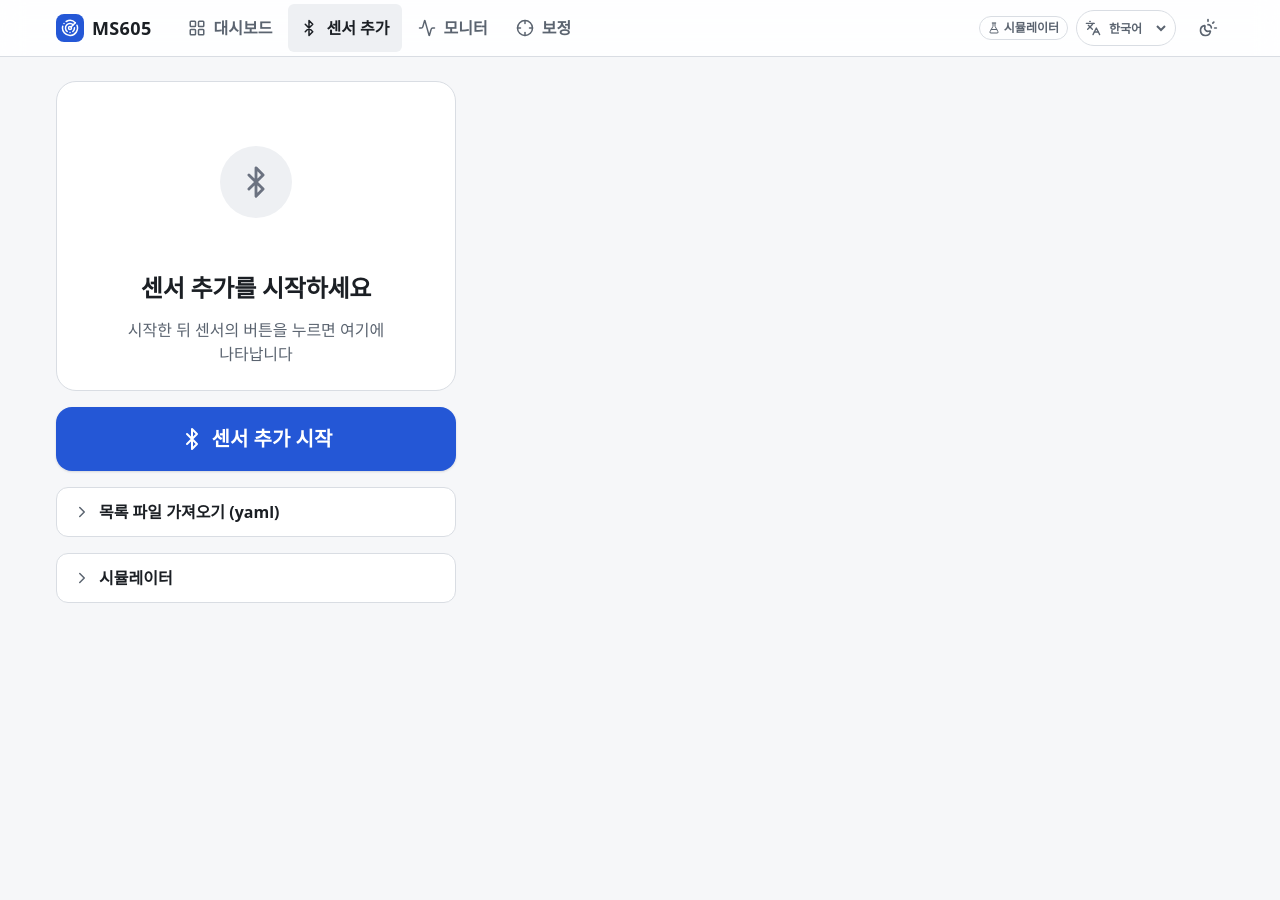
Test: language control › retranslates a gather request error that is already visible
Click the button "센서 추가 시작": (256, 439) [56,407,456,471]
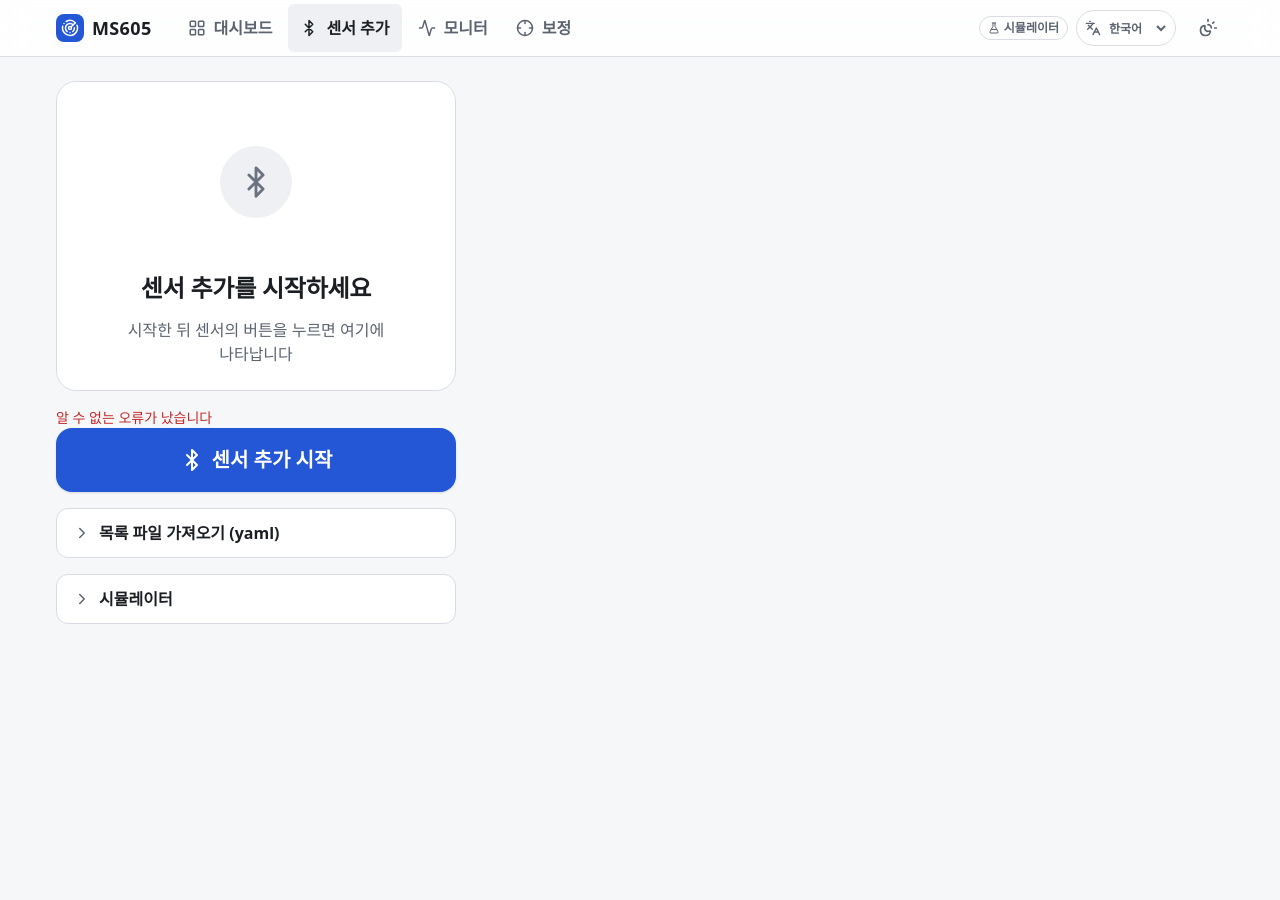
Select "English" in the dropdown named "언어": (1137, 28) [1105,18,1169,38]
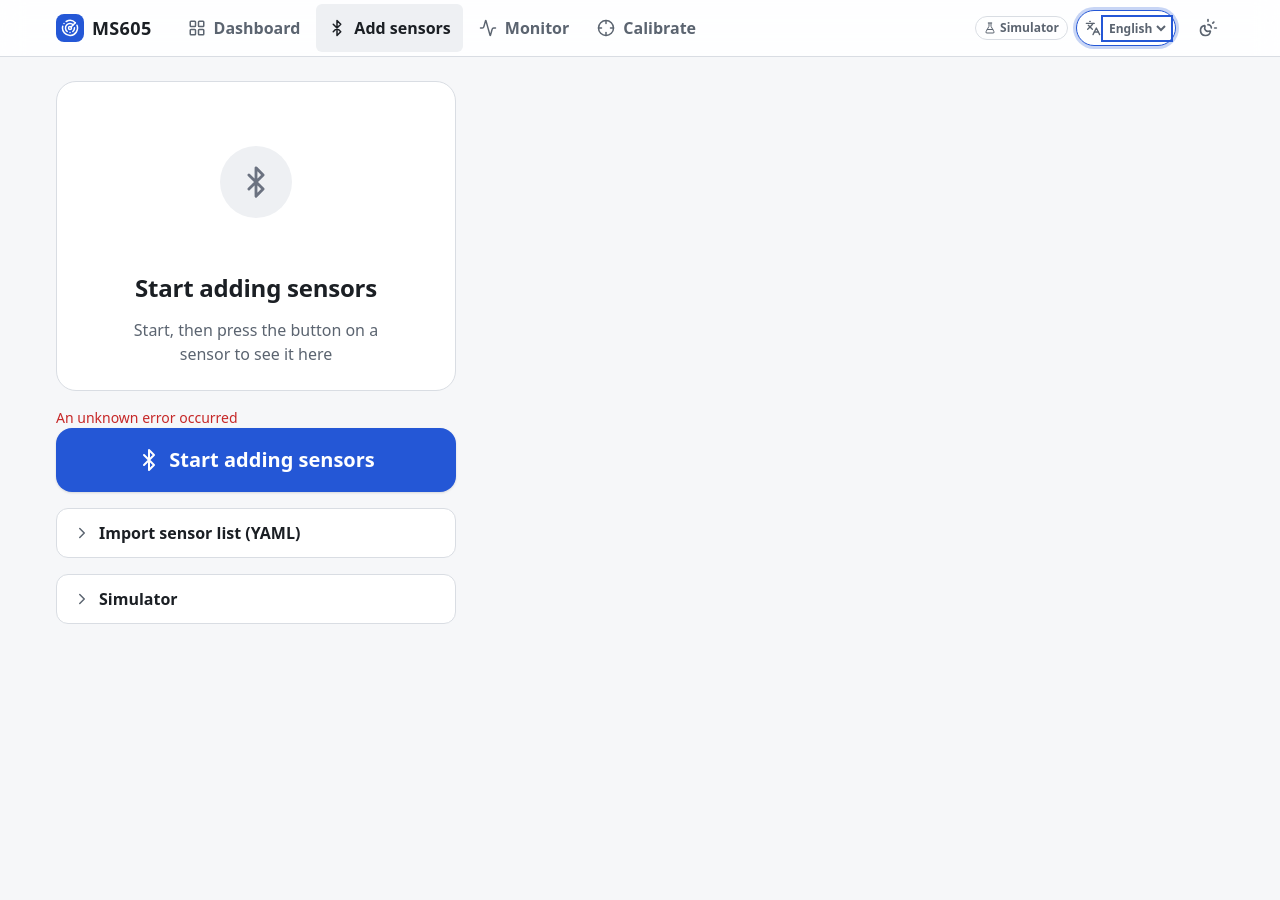
Result: the message reads "An unknown error occurred" at [56,408,238,427]
